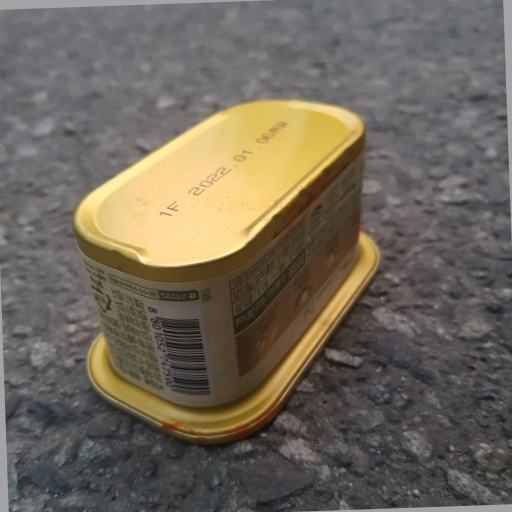Metal_2: (72, 92, 386, 442)
